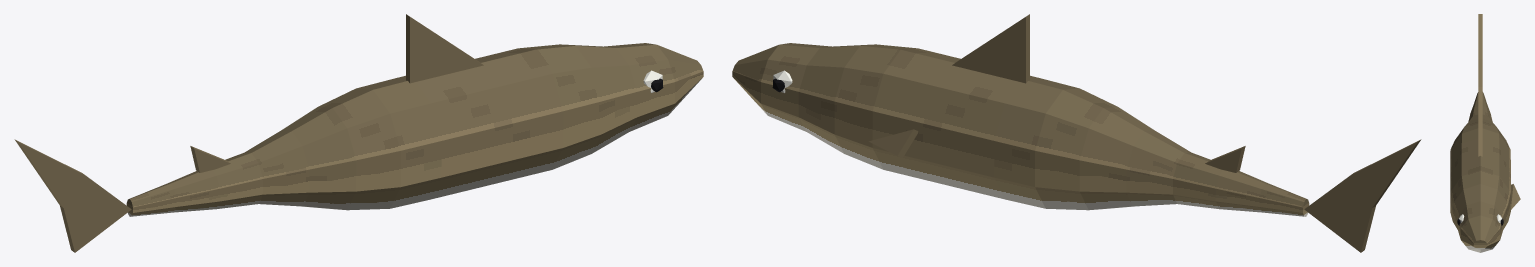
Rendered from bronze_whaler.glb.
3 renders of one model, left to right at view 1: azimuth 30°, elevation 25°; view 2: azimuth 150°, elevation 25°; view 3: azimuth 270°, elevation 25°, orthographic. The views are drawn at different scales.
Parts seen in each view (by area): view 1: fish_bronze_whaler; view 2: fish_bronze_whaler; view 3: fish_bronze_whaler.
Part boxes in pixels (left/top/right/bottom): fish_bronze_whaler: left=14, top=14, right=703, bottom=252; fish_bronze_whaler: left=732, top=14, right=1421, bottom=252; fish_bronze_whaler: left=1450, top=14, right=1520, bottom=252.
Size of the model in its own units: 1.2 by 0.31 by 0.1993.
Materials: 4 (1 with a texture image).
